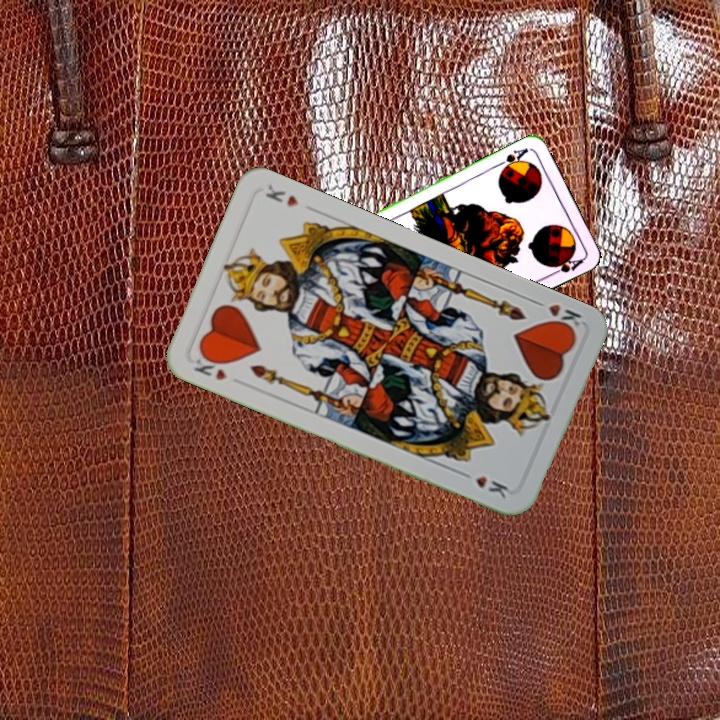HK: (529, 295, 585, 335), (190, 350, 229, 384)
SA: (494, 144, 531, 174)
